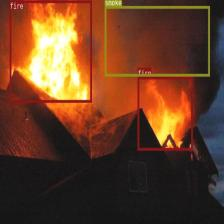fire: (9, 0, 91, 102), (137, 76, 193, 150)
smoke: (104, 5, 210, 76)
